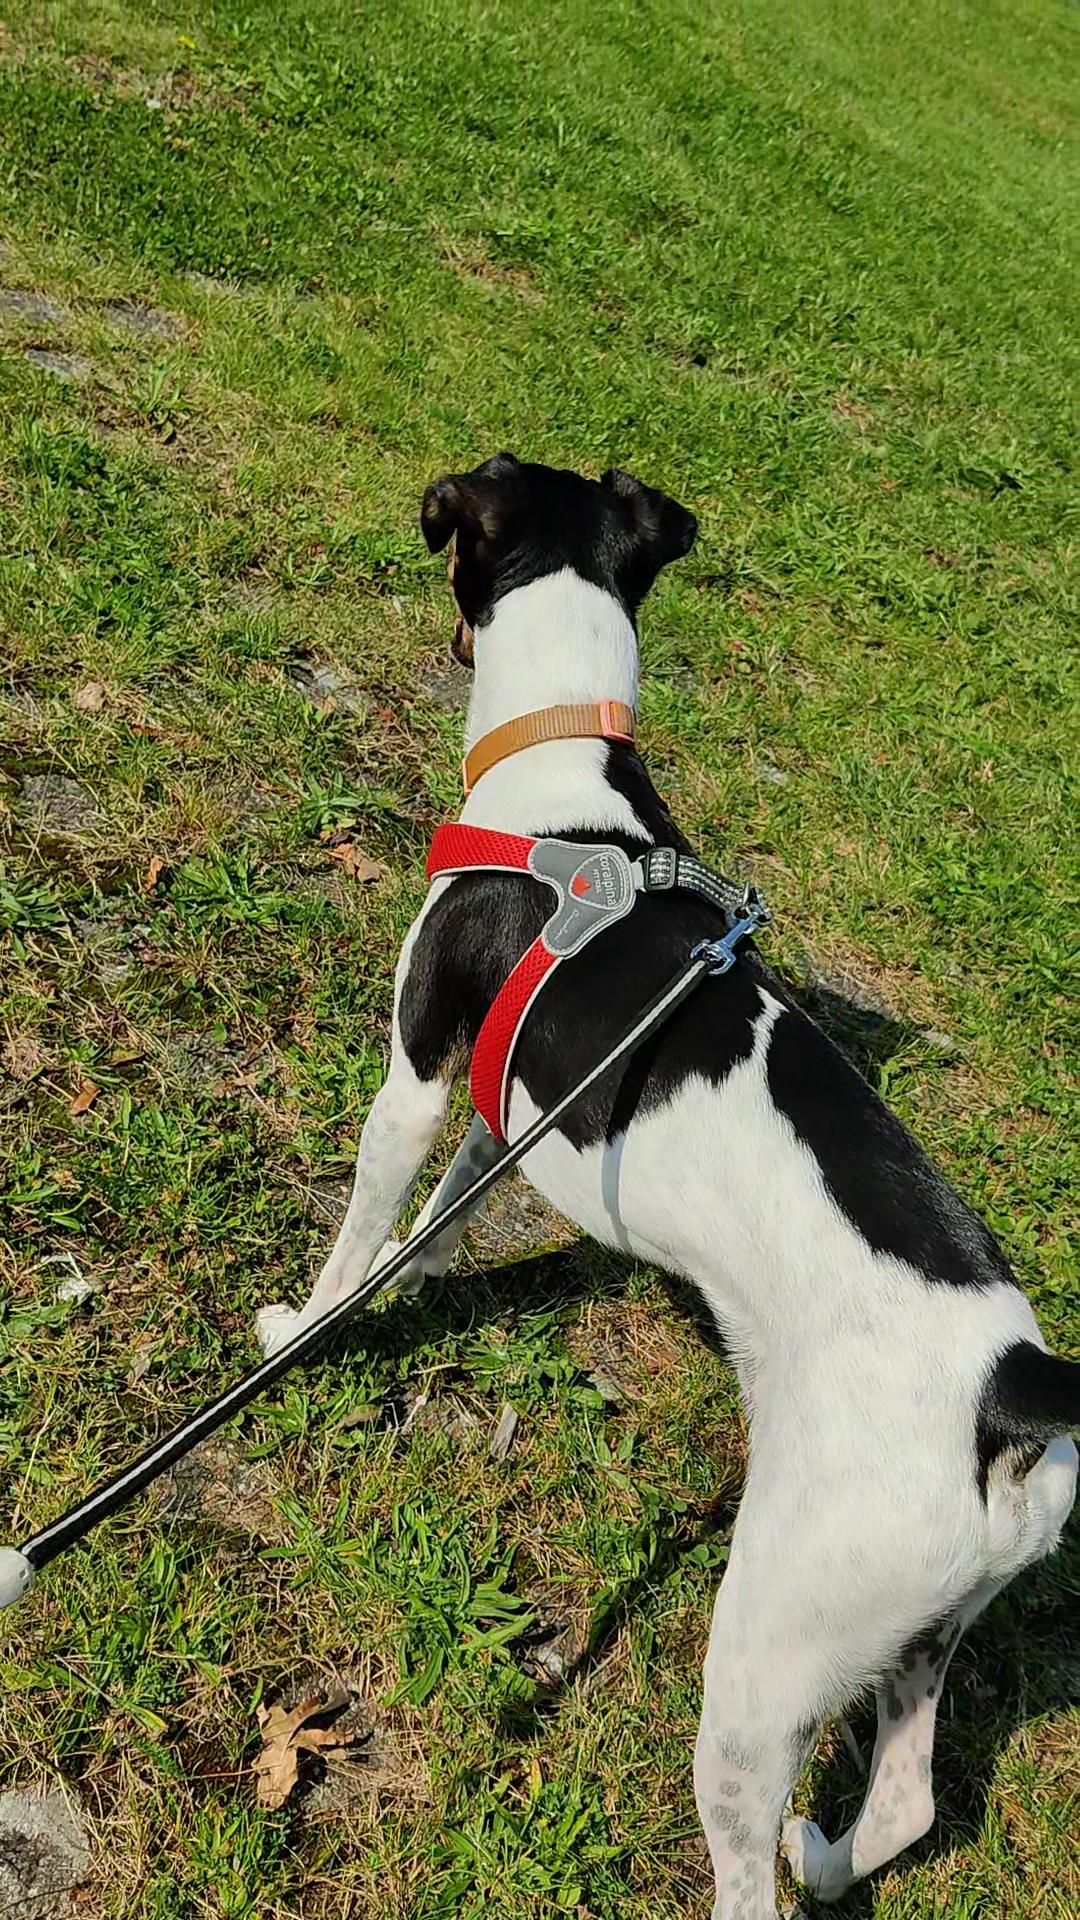Dog: (247, 433, 1079, 1909)
